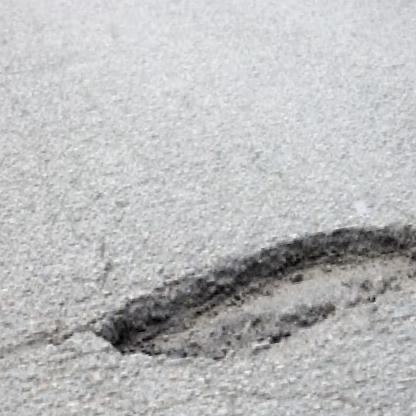pothole: (82, 208, 416, 381)
